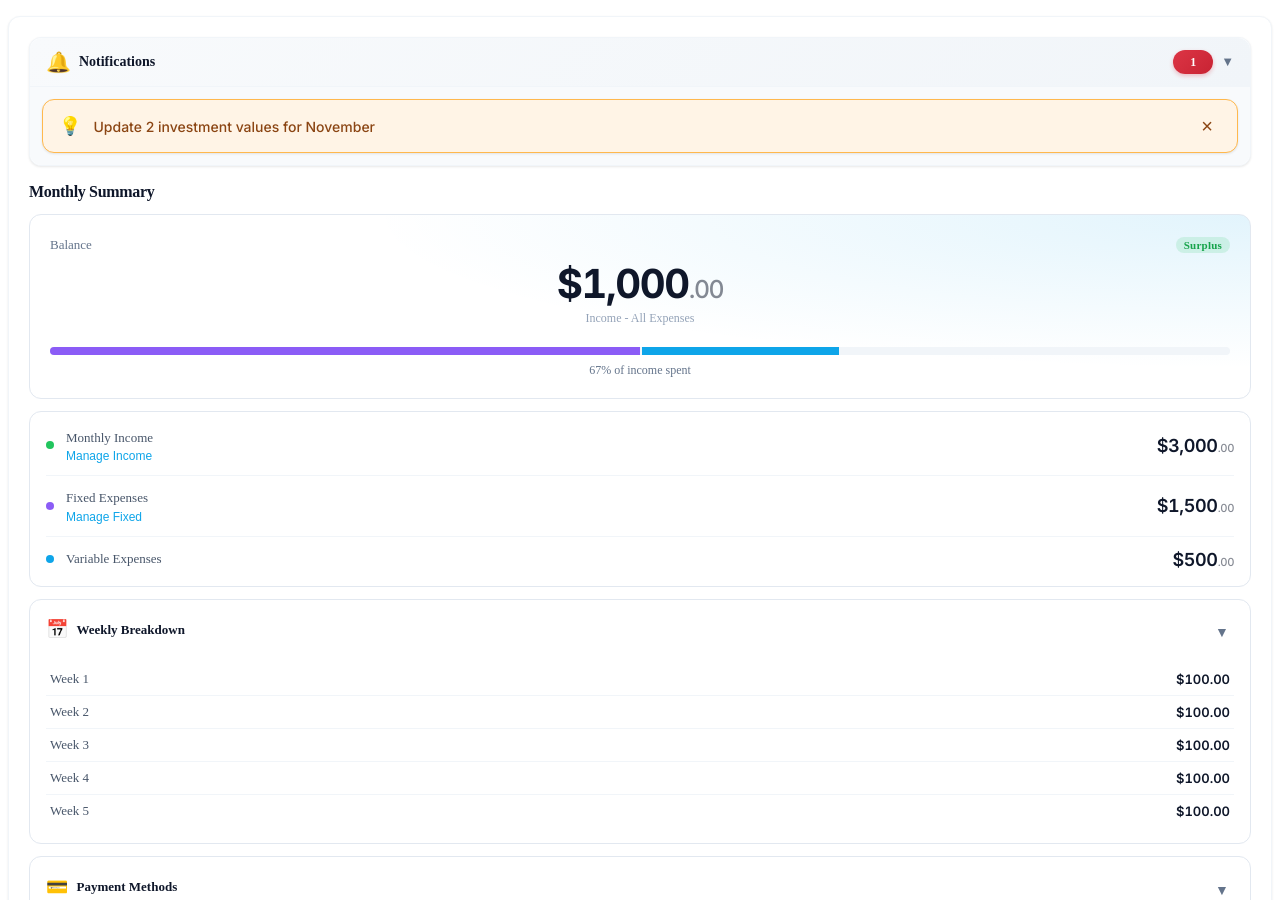
SummaryPanel › Reminder Functionality › should hide reminder banner when dismissed
The width and height of the screenshot is (1280, 900).
Expected: the button with class "data-reminder-banner" is shown, [42, 99, 1238, 153]
Click the button with class "reminder-dismiss-btn". click: (1207, 126)
box: [1193, 112, 1221, 140]
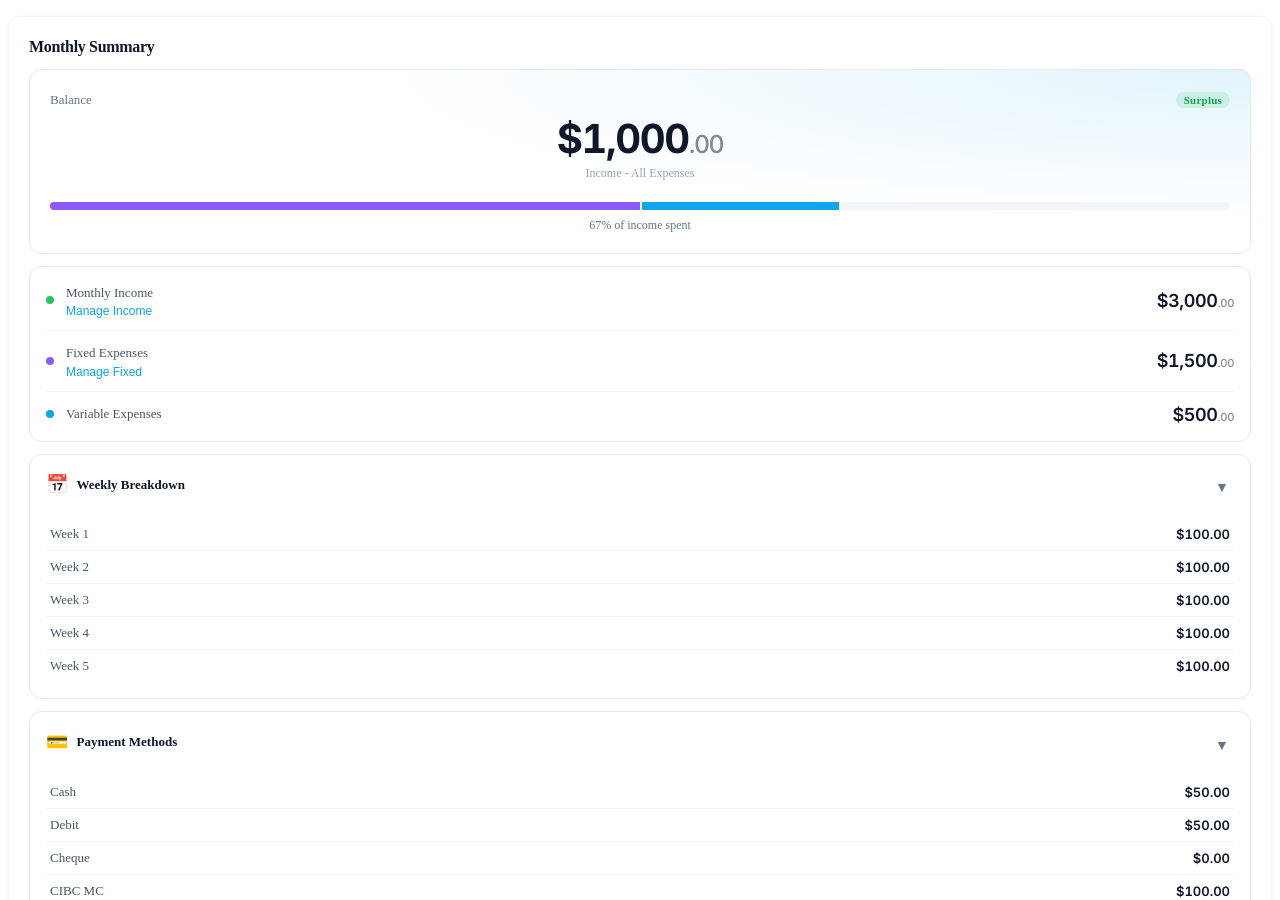
Result: the button with class "data-reminder-banner" is gone
